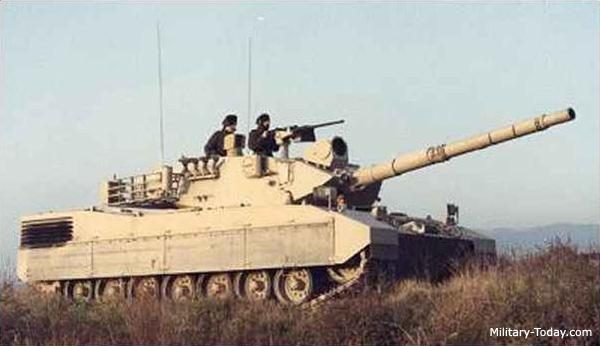person: (200, 115, 246, 158), (245, 113, 286, 153)
tank: (17, 128, 517, 308)
